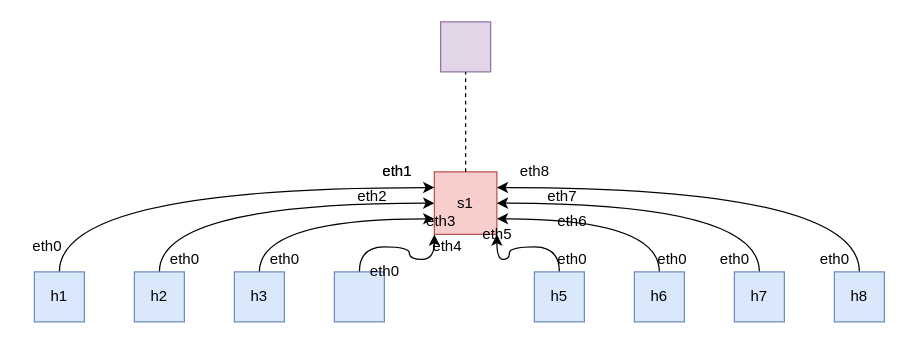
Image size: 906x344. Some labels were removed from this diagram. The box of each missing label's shape, as (x1, y1, x2, y2) in pixels:
c1: (439, 21, 491, 72)
h4: (333, 271, 384, 322)
